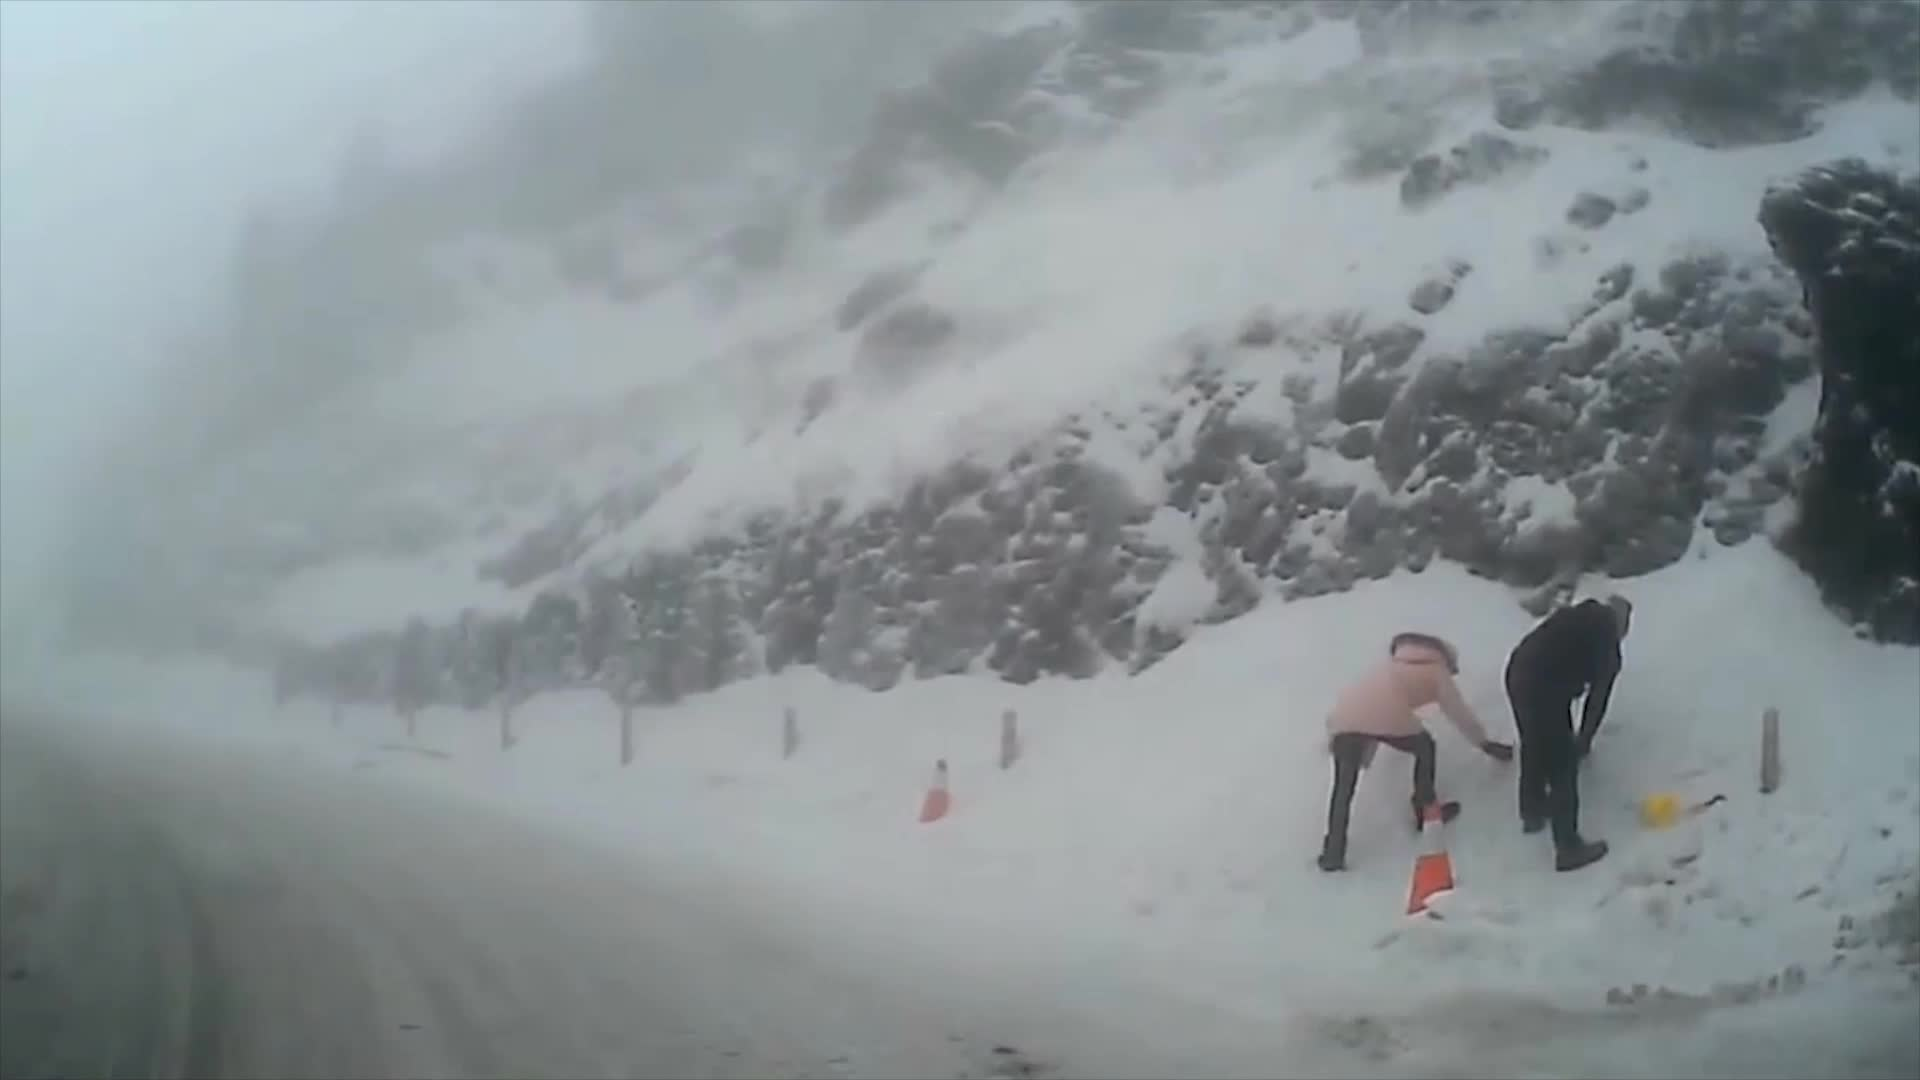pedestrian: (1323, 630, 1506, 868), (1507, 592, 1639, 869)
